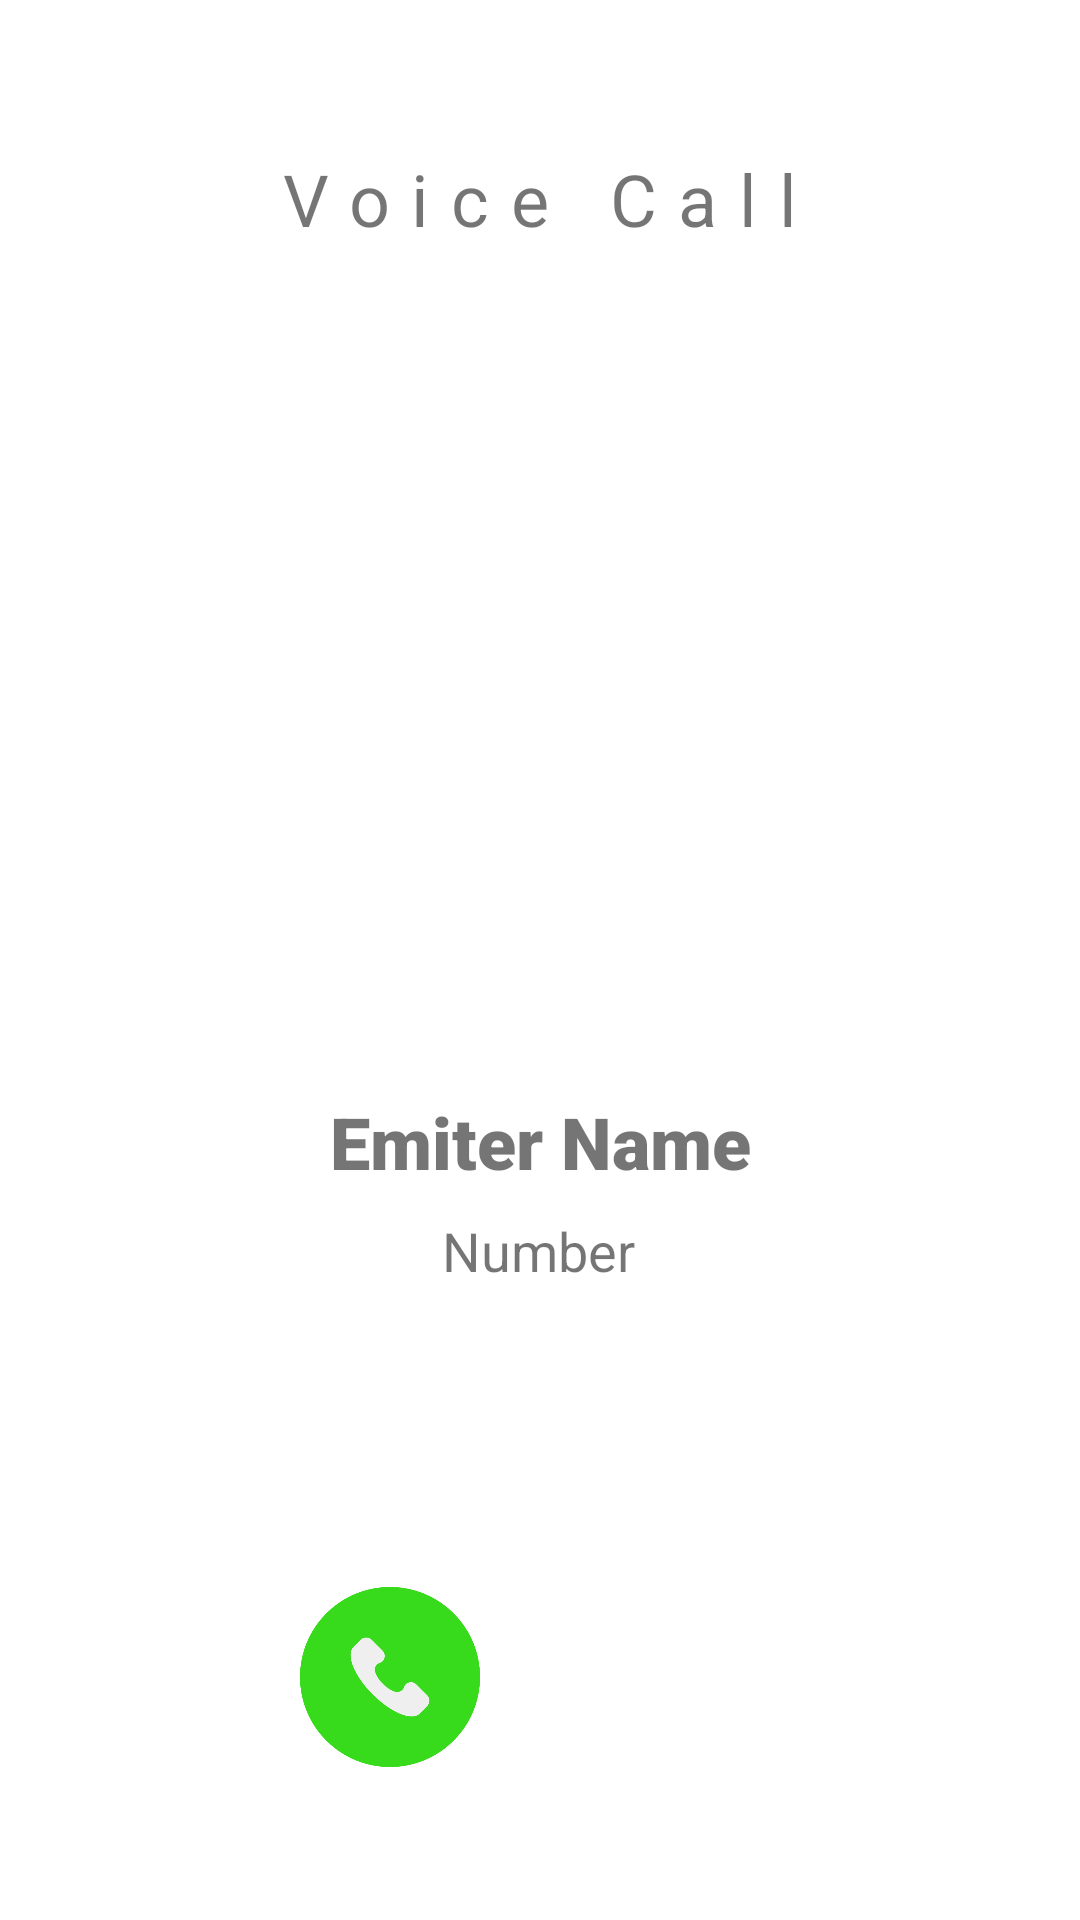

Icons on this 1080px x 1920px Android screen, each with the point to tap as point (x, y):
aceitar: point (390, 1677)
